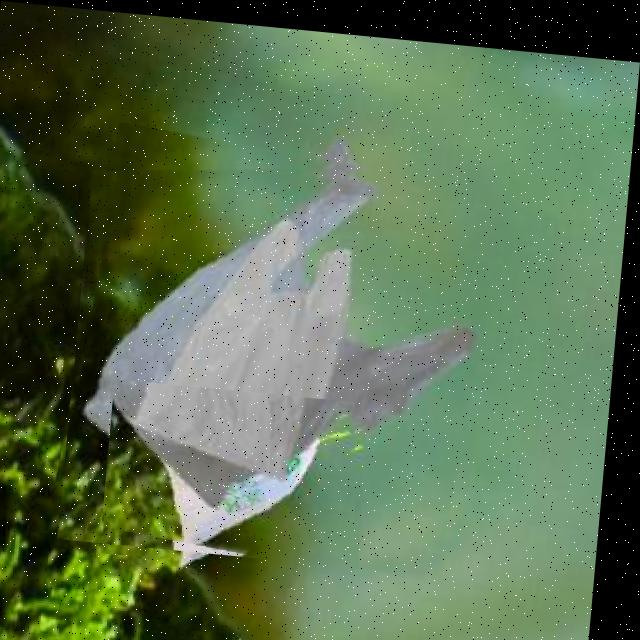litter: (66, 125, 502, 567), (109, 375, 377, 566)
